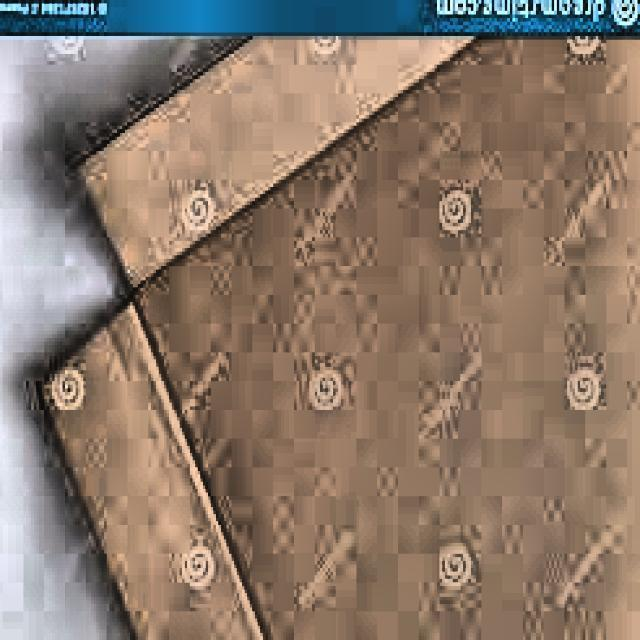cardboard: (36, 36, 640, 640)
